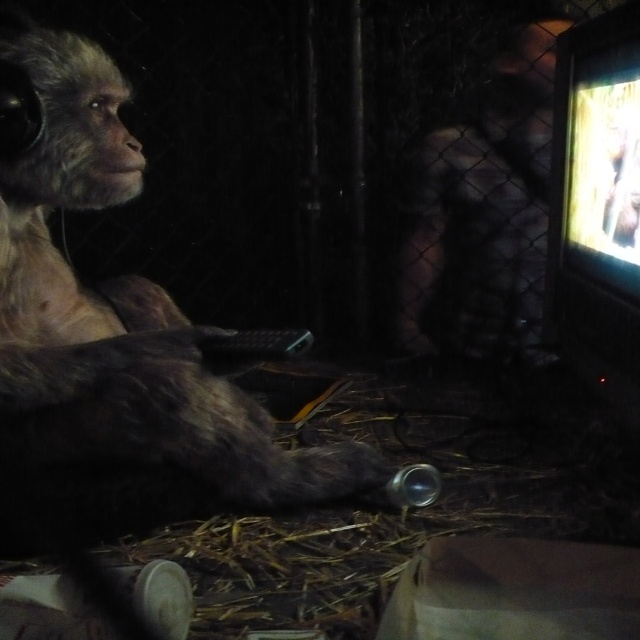Monkey: (11, 64, 404, 574)
